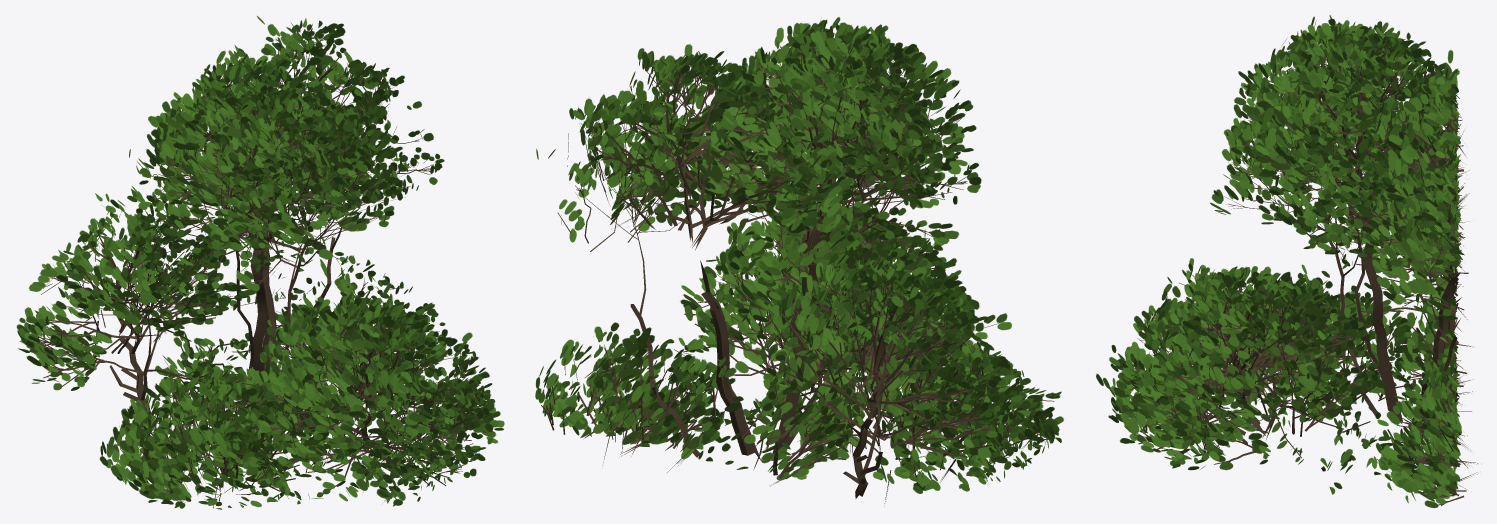
3 renders of one model, left to right at view 1: azimuth 30°, elevation 25°; view 2: azimuth 150°, elevation 25°; view 3: azimuth 270°, elevation 25°, orthographic. The views are drawn at different scales.
Visible parts, largest first — view 1: oak 01.001_trunk_Mat.001_0.263; view 2: oak 01.001_trunk_Mat.001_0.263; view 3: oak 01.001_trunk_Mat.001_0.263.
Part boxes in pixels (box(x1,y1,x2,y2)): oak 01.001_trunk_Mat.001_0.263: box(16, 16, 504, 509); oak 01.001_trunk_Mat.001_0.263: box(535, 17, 1063, 505); oak 01.001_trunk_Mat.001_0.263: box(1096, 15, 1478, 508).
Bounding box in the file's own units: 5.74 × 5.16 × 4.54.
Materials: 2 (1 with a texture image).
